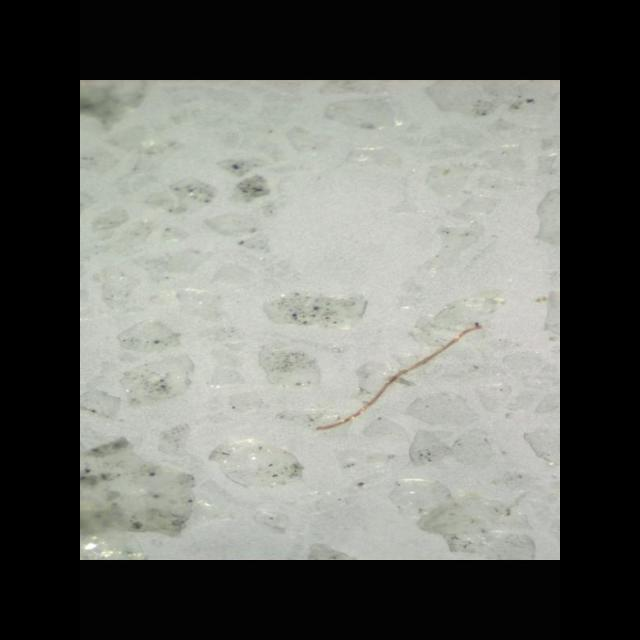Fibre: (310, 318, 486, 432)
